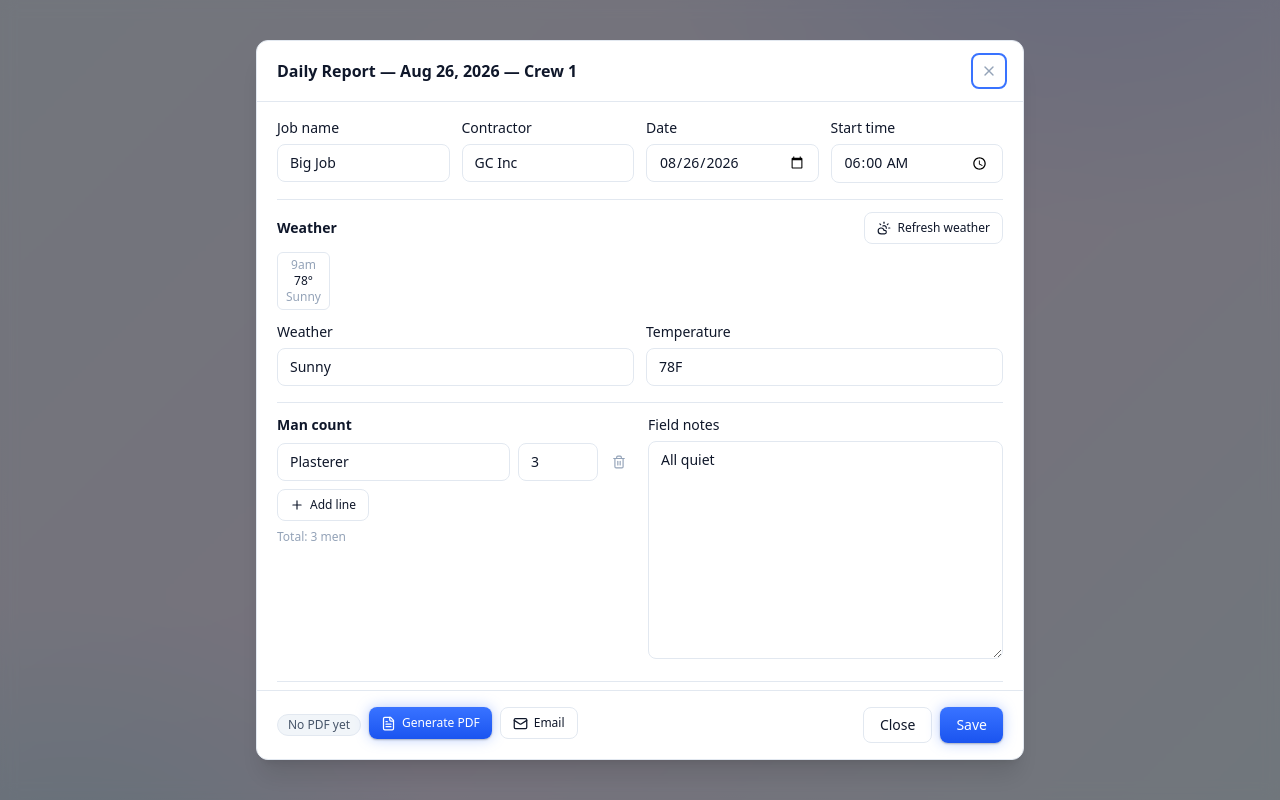
it: DailyReportEditor — document actions › reports a failed re-read instead of storing pre-save bytes
The image size is (1280, 800).
What coordinates should you click on to do the following:
click the button with test id "doc-generate"
I would click on:
 (430, 723)
Its box is [369,707,492,739].
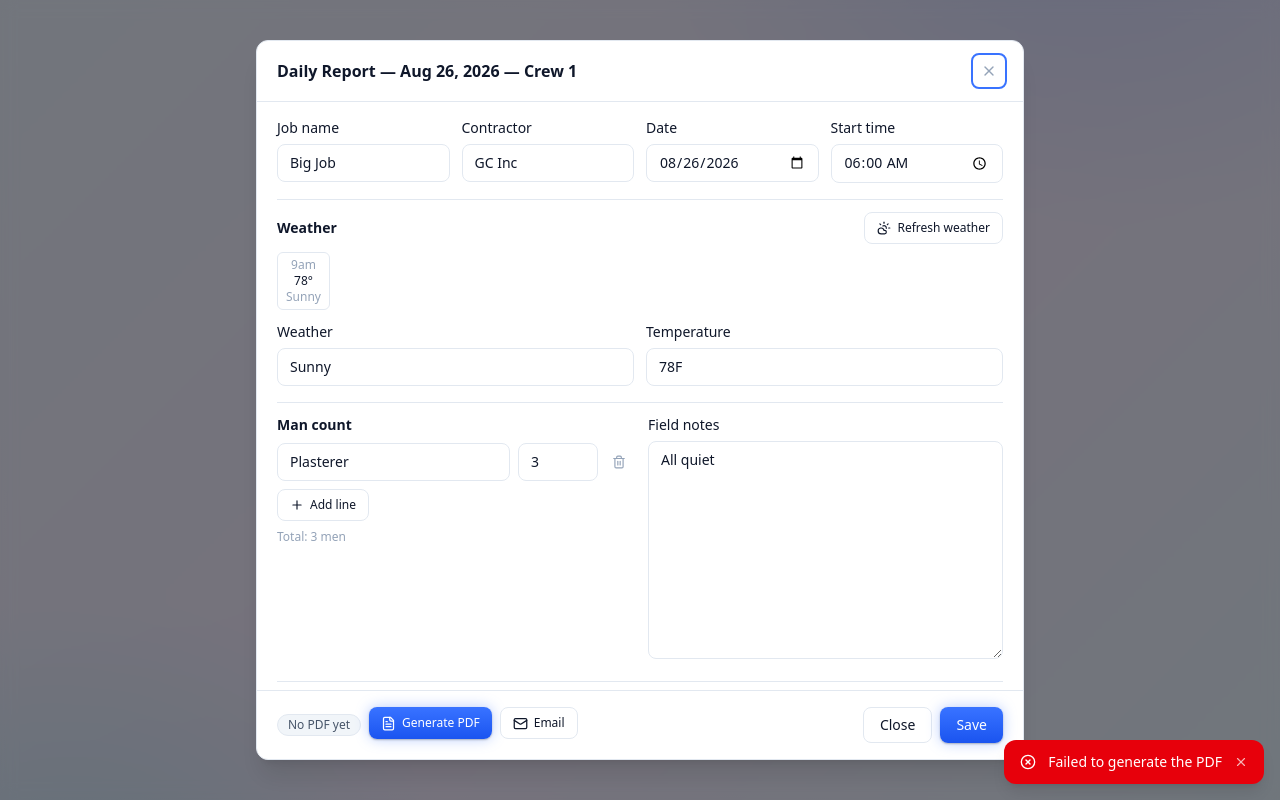
Check: the text "Failed to generate the PDF" is shown, box [1048,752,1222,772]
